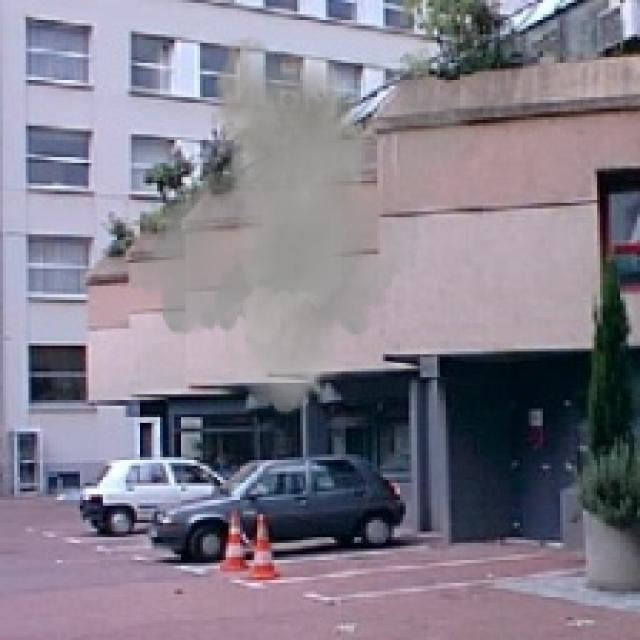Smoke: (114, 34, 483, 414)
